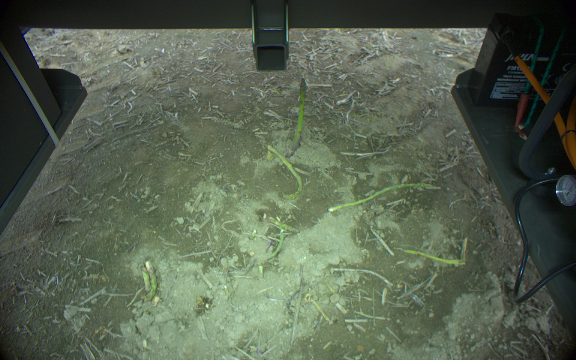aspa: (328, 181, 441, 214), (265, 143, 304, 203), (285, 76, 308, 157), (403, 247, 462, 269), (143, 257, 160, 303), (260, 213, 298, 233), (267, 230, 284, 262), (136, 265, 150, 289), (461, 236, 470, 271)
